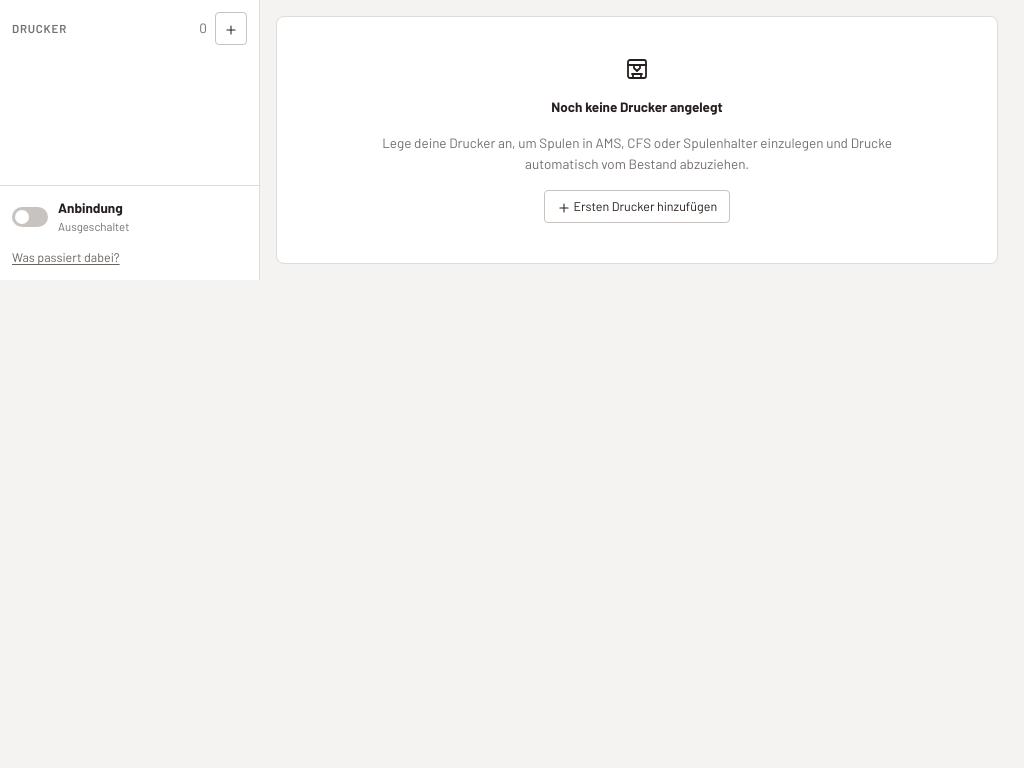
Test: shows the empty state and creates a resin printer through the keyboard form
The width and height of the screenshot is (1024, 768).
Step 1. Click the button with aria-label "+ Ersten Drucker hinzufügen" → point(637, 206), box [544, 190, 730, 223]
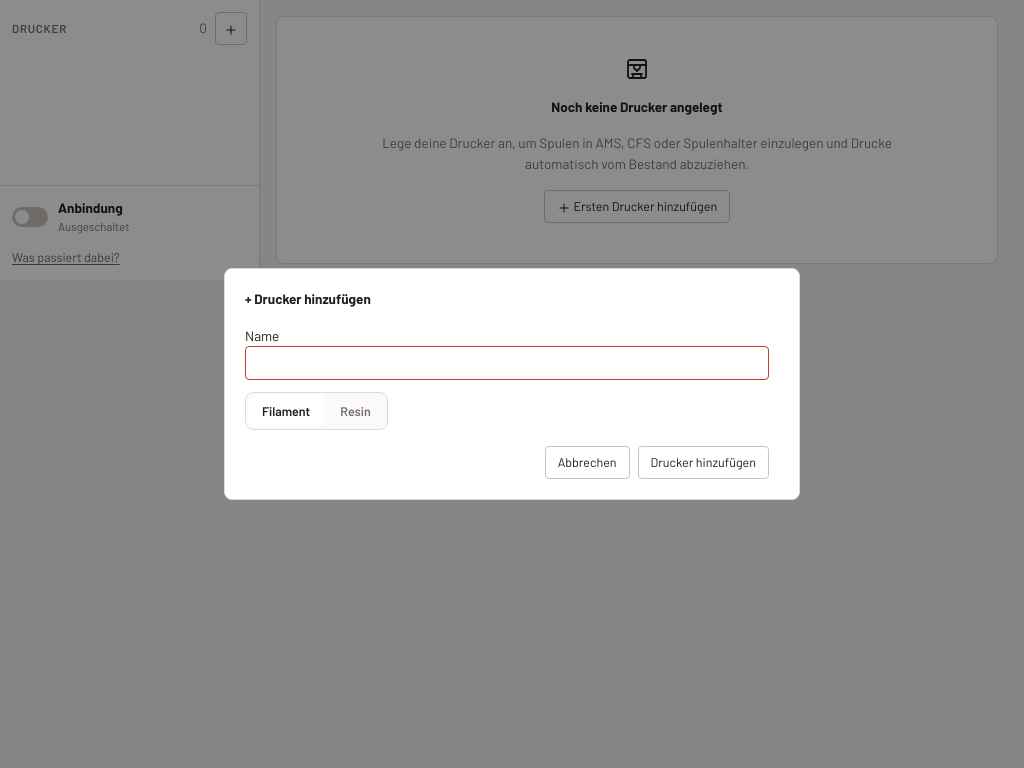
Step 2. Type "Resin new" into the field labelled "Name" → point(507, 363), box [245, 346, 769, 380]
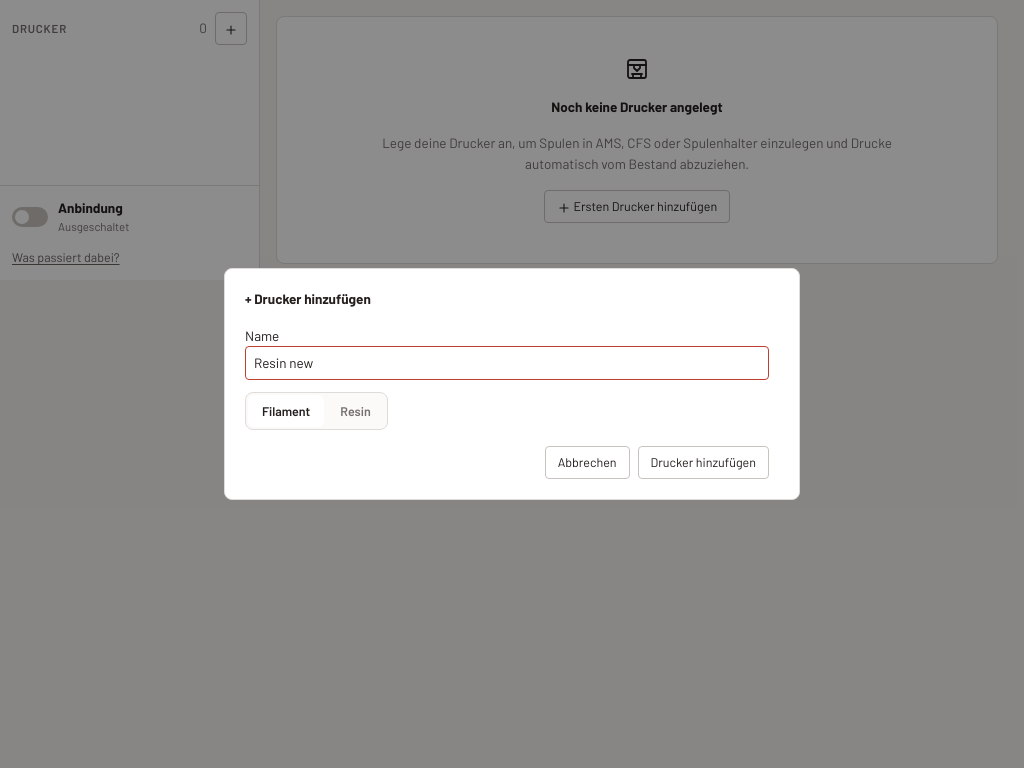
Step 3. Click the button "Resin" → point(356, 411), box [326, 395, 385, 427]
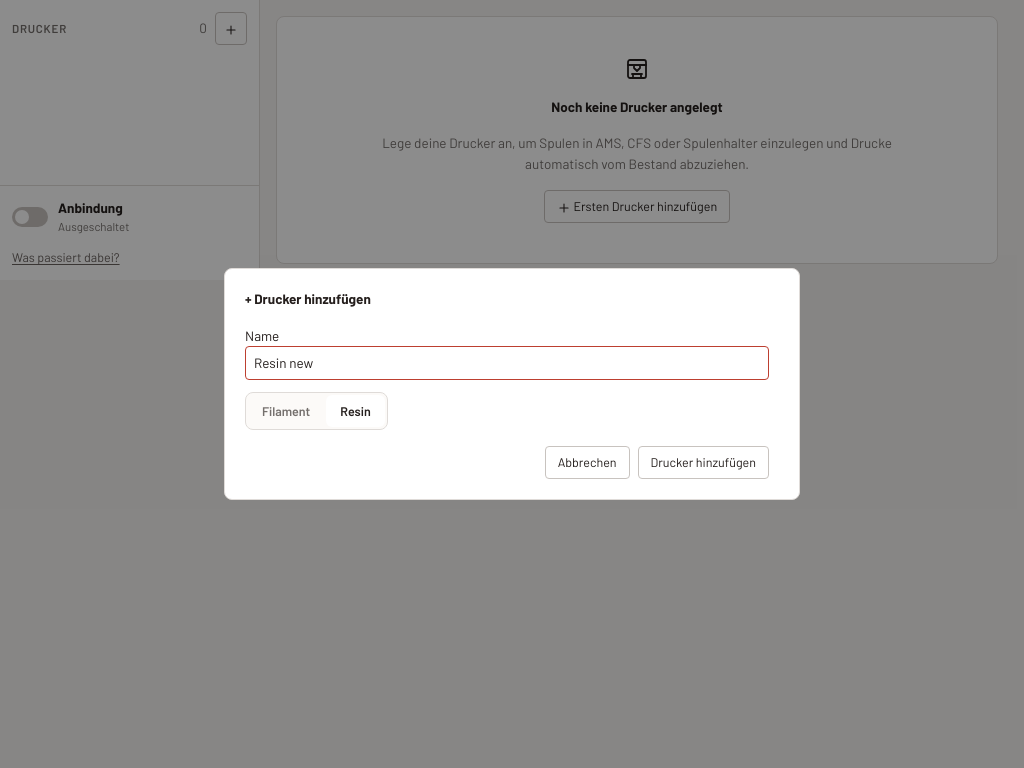
Step 4. Submit the form, box [245, 289, 769, 479]
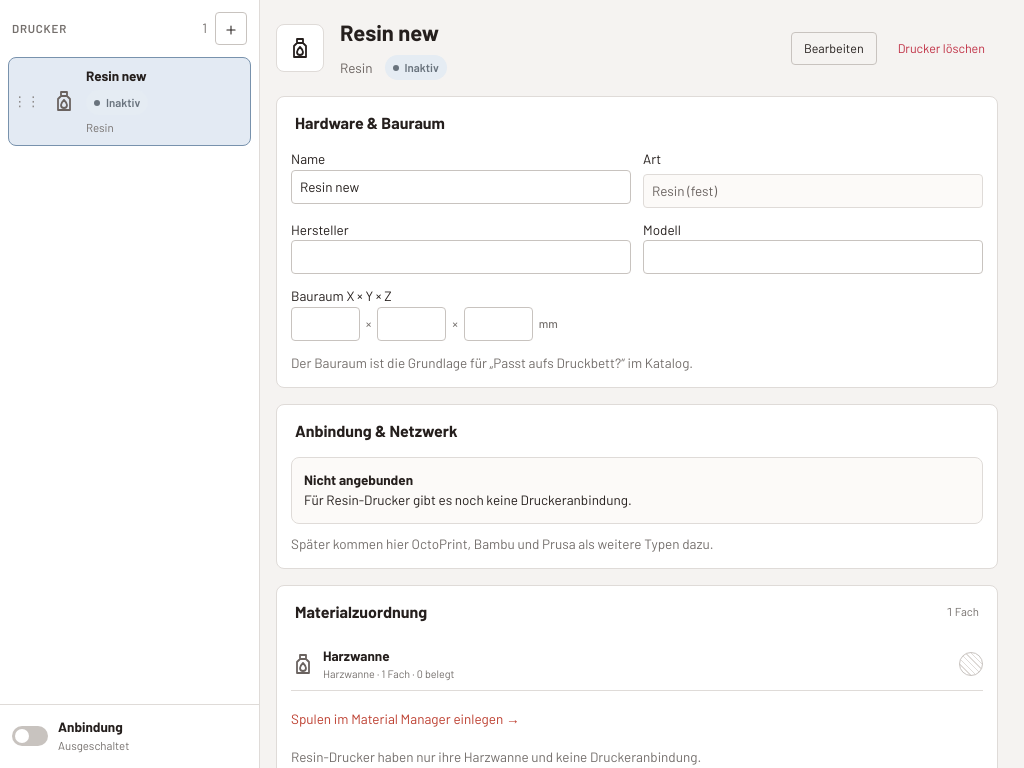
Now the dialog is gone
Now the text "Für Resin-Drucker gibt es noch keine Druckeranbindung." is shown, box [304, 491, 632, 508]
